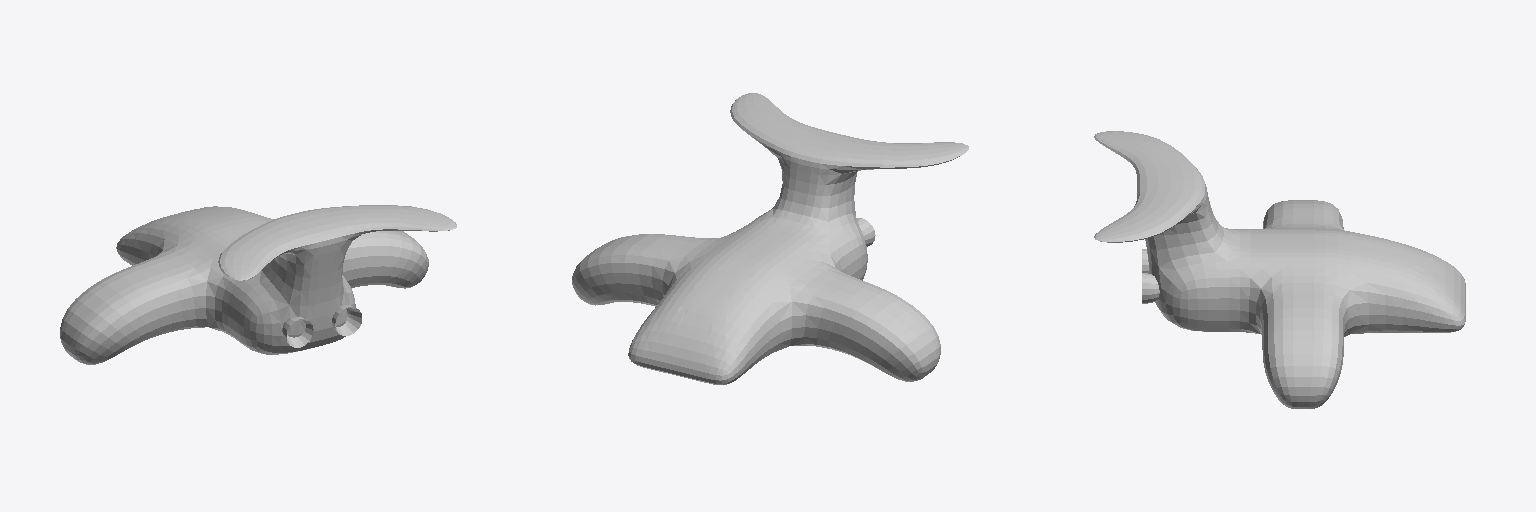
Rendered from Stupship_proc.obj.
3 renders of one model, left to right at view 1: azimuth 30°, elevation 25°; view 2: azimuth 150°, elevation 25°; view 3: azimuth 270°, elevation 25°, orthographic.
Parts seen in each view (by area): view 1: Box01; view 2: Box01; view 3: Box01.
Part boxes in pixels (x1,y1,x2,y2): Box01: (60,205,456,364); Box01: (572,93,968,384); Box01: (1094,131,1465,408).
Bounding box in the file's own units: 115 × 46.34 × 105.